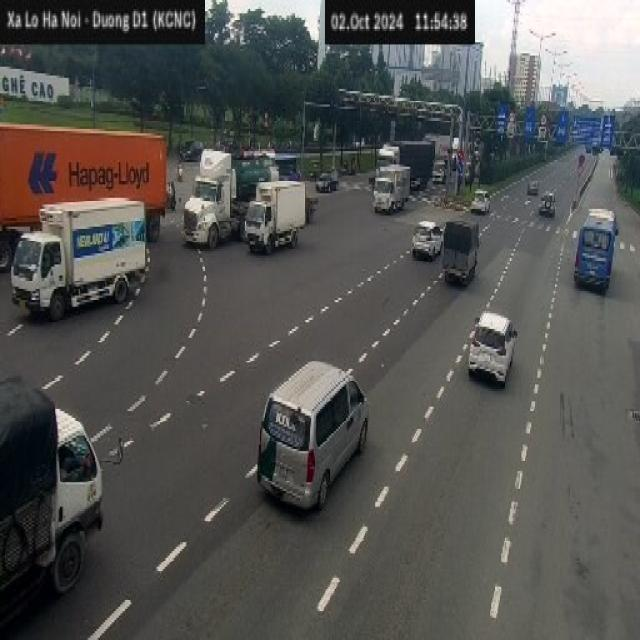bus: (572, 199, 620, 295)
car: (256, 358, 369, 511), (468, 309, 518, 387), (412, 218, 442, 260), (470, 189, 490, 213), (537, 191, 555, 216)
container-truck: (0, 120, 168, 271)
truck: (0, 367, 128, 613), (10, 196, 148, 320)
